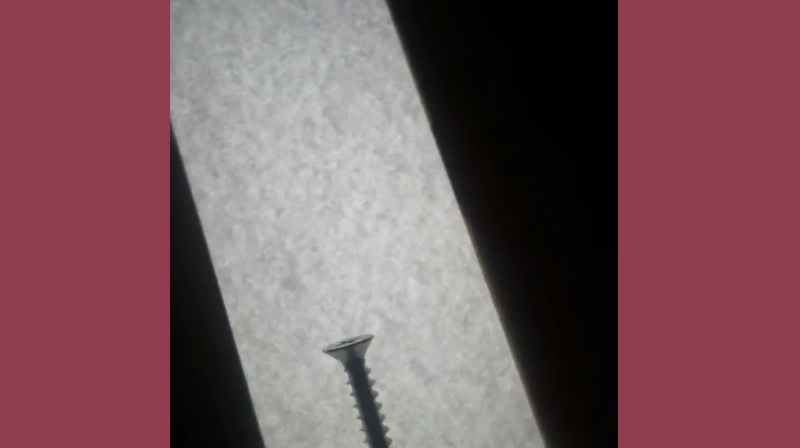S001: (316, 329, 403, 447)
